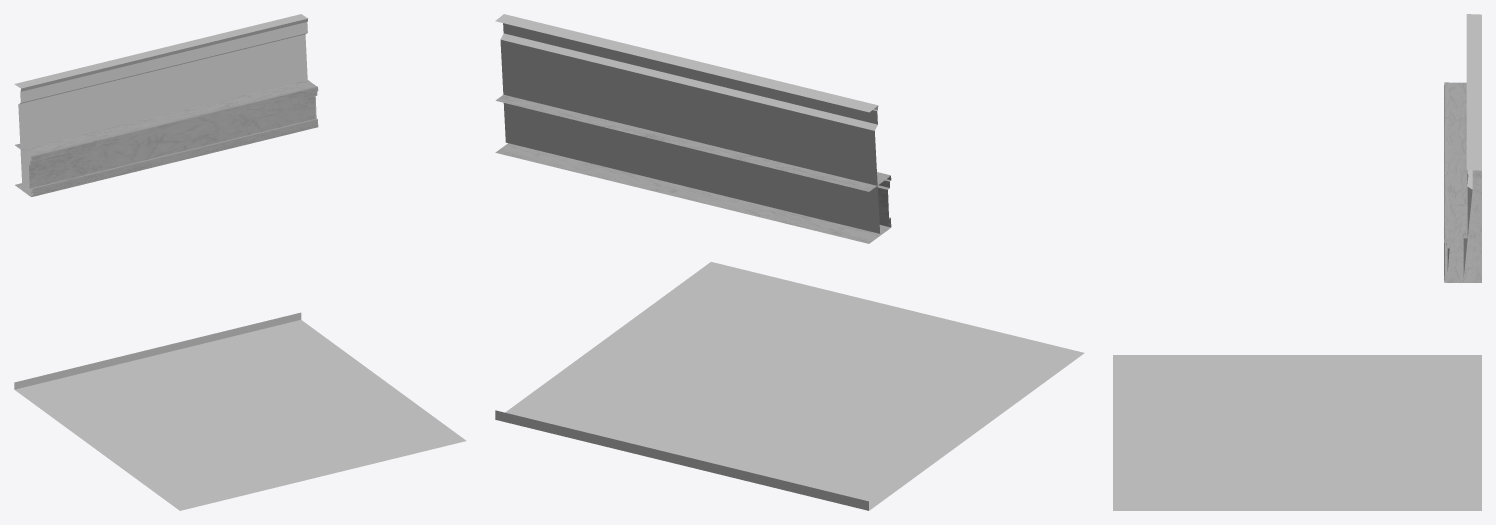
File: exteriorWallBrick_MiddleJoiner.fbx
3 views of the same model, side by side, from view 1: azimuth 30°, elevation 25°; view 2: azimuth 150°, elevation 25°; view 3: azimuth 270°, elevation 25° (orthographic). The views are drawn at different scales.
Visible parts, largest first — view 1: exteriorBrick_MiddleJoiner; view 2: exteriorBrick_MiddleJoiner; view 3: exteriorBrick_MiddleJoiner.
Part boxes in pixels (x1,y1,x2,y2): exteriorBrick_MiddleJoiner: (14, 14, 466, 510); exteriorBrick_MiddleJoiner: (495, 14, 1084, 510); exteriorBrick_MiddleJoiner: (1113, 14, 1481, 510).
Bounding box in the file's own units: 3 × 3.06 × 3.
